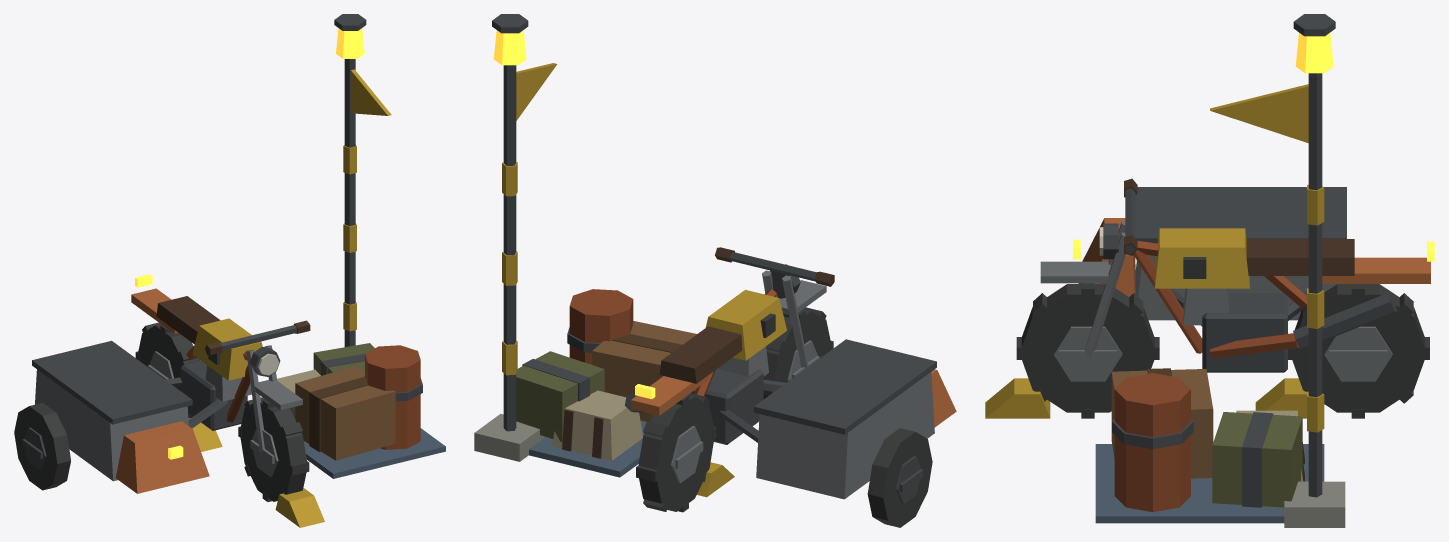
File: vehicle_parked_extraction_t2.glb
The picture shows the model from 3 angles, left to right: view 1: azimuth 30°, elevation 25°; view 2: azimuth 150°, elevation 25°; view 3: azimuth 270°, elevation 25°; orthographic projection. The views are drawn at different scales.
Visible parts, largest first — view 1: vehicle, stash, beacon; view 2: vehicle, stash, beacon; view 3: vehicle, stash, beacon.
Boxes of the visible parts, <box> form: vehicle: <box>14,274,324,527</box>; stash: <box>277,343,445,478</box>; beacon: <box>334,14,391,347</box>; vehicle: <box>624,247,956,527</box>; stash: <box>516,289,696,477</box>; beacon: <box>474,14,557,461</box>; vehicle: <box>985,178,1434,418</box>; stash: <box>1095,368,1324,523</box>; beacon: <box>1210,14,1345,527</box>.
Size of the model in its own units: 2.85 by 2.87 by 2.36.
